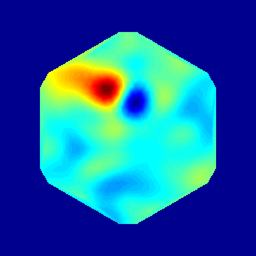ship: (120, 90, 145, 109)
wave: (94, 80, 128, 101)
